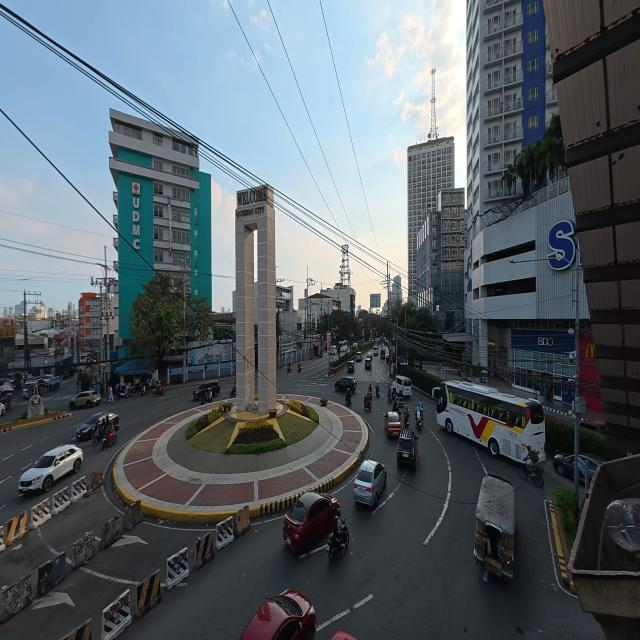Jeepneys: (475, 473, 515, 577), (380, 348, 385, 359)
bus: (433, 381, 545, 461)
car: (241, 590, 316, 639), (283, 492, 339, 552), (19, 445, 83, 493), (353, 460, 386, 504), (77, 412, 119, 440), (397, 429, 418, 468), (580, 454, 605, 483), (70, 391, 101, 408), (193, 381, 220, 400), (384, 411, 403, 437), (580, 420, 605, 434), (23, 379, 41, 398), (335, 376, 356, 391), (332, 631, 356, 639), (347, 361, 355, 374), (0, 403, 6, 416), (365, 358, 371, 370), (373, 345, 378, 356), (356, 352, 362, 361), (366, 353, 372, 359), (385, 354, 389, 363), (352, 343, 357, 350)
motorcycle: (326, 519, 349, 561), (102, 433, 117, 450), (92, 428, 103, 446), (201, 390, 212, 405), (0, 396, 11, 410), (130, 381, 142, 393), (117, 387, 129, 398), (153, 387, 164, 397), (404, 411, 410, 427), (417, 414, 423, 430), (364, 400, 371, 412), (230, 384, 236, 397), (345, 395, 352, 406), (387, 389, 392, 403), (141, 385, 146, 396), (465, 375, 472, 382), (376, 389, 380, 398), (287, 364, 291, 372), (298, 364, 301, 372)
vans: (393, 376, 411, 397)
